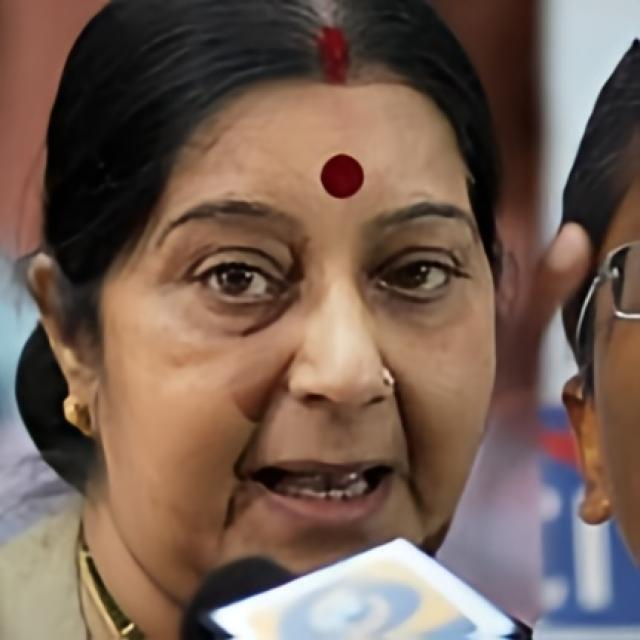surprise: (100, 81, 500, 594)
